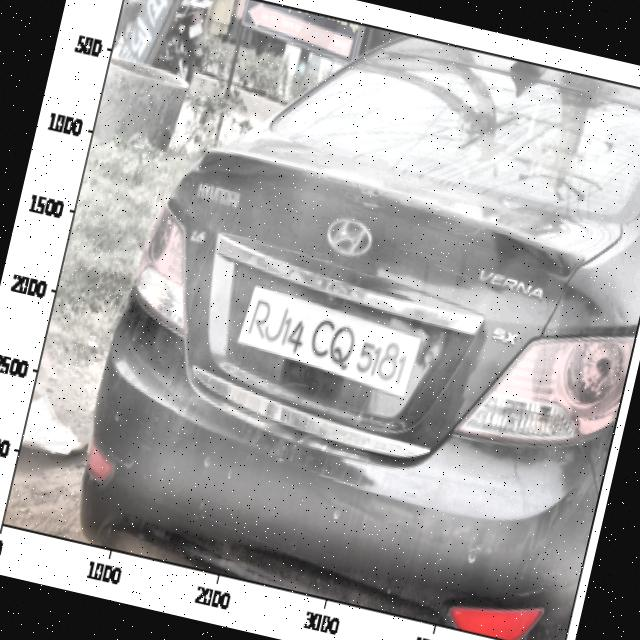license_plate: (236, 288, 421, 395)
